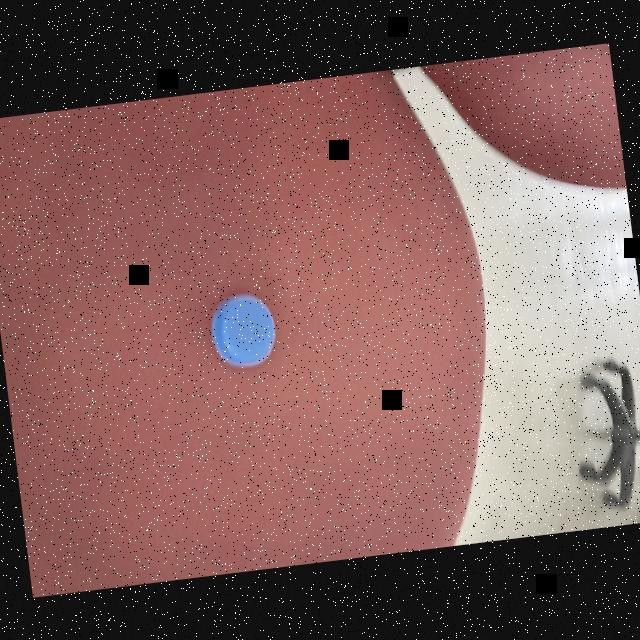plastic_bottle_cap: (205, 286, 280, 370)
